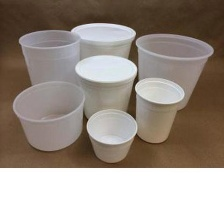plastic_box: (130, 26, 220, 115), (8, 76, 91, 155), (71, 49, 141, 124), (13, 23, 86, 94), (128, 73, 190, 148), (82, 104, 141, 168), (65, 17, 141, 64)
